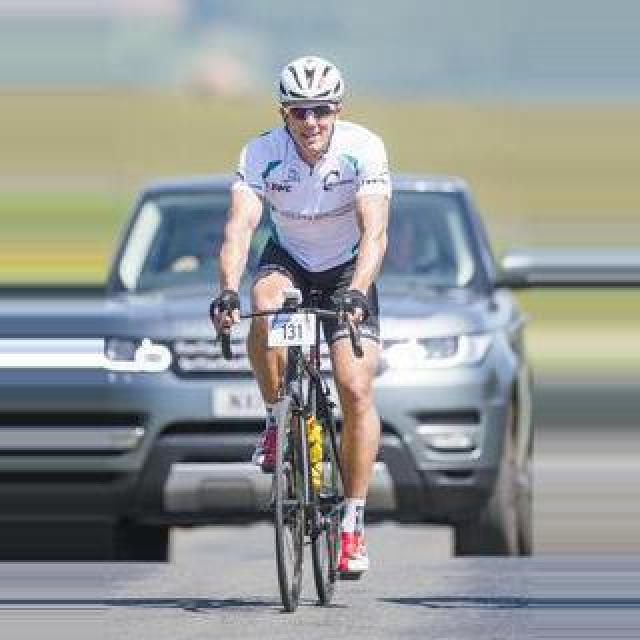Bus-Bike: (110, 170, 534, 562)
MC-Bike: (210, 46, 392, 570)
Person: (252, 322, 352, 614)
